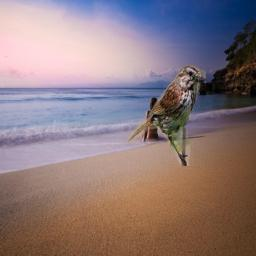Sparrow: (127, 65, 206, 166)
